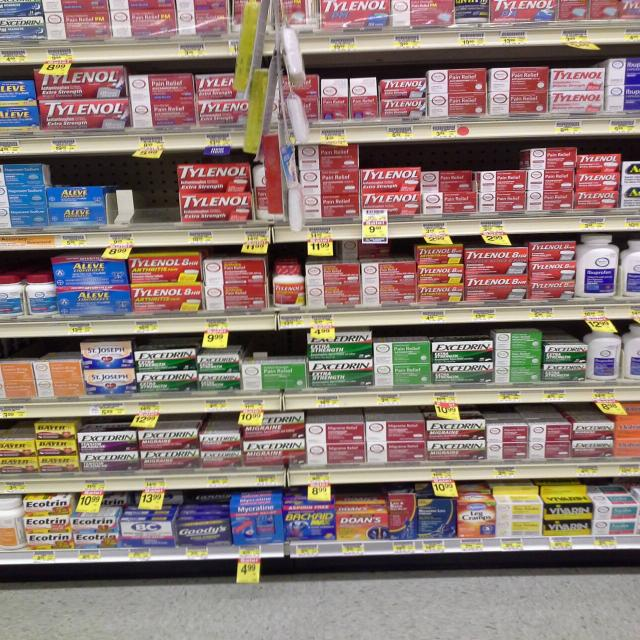empty: (99, 160, 183, 232)
